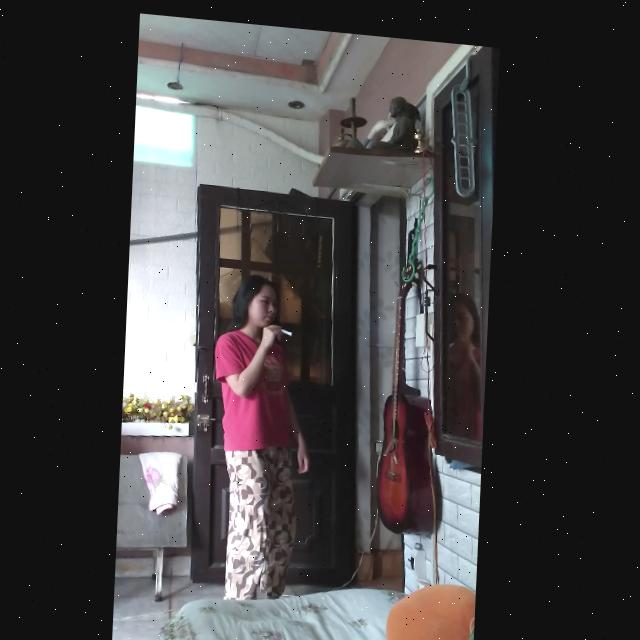cigarette: (283, 324, 295, 330)
